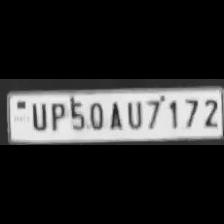0: (86, 99, 106, 131)
1: (162, 96, 180, 130)
2: (198, 96, 220, 128)
5: (66, 98, 86, 132)
7: (144, 96, 162, 130), (180, 97, 198, 129)
A: (106, 99, 124, 131)
P: (46, 100, 66, 132)
U: (122, 96, 144, 130), (28, 100, 48, 132)
